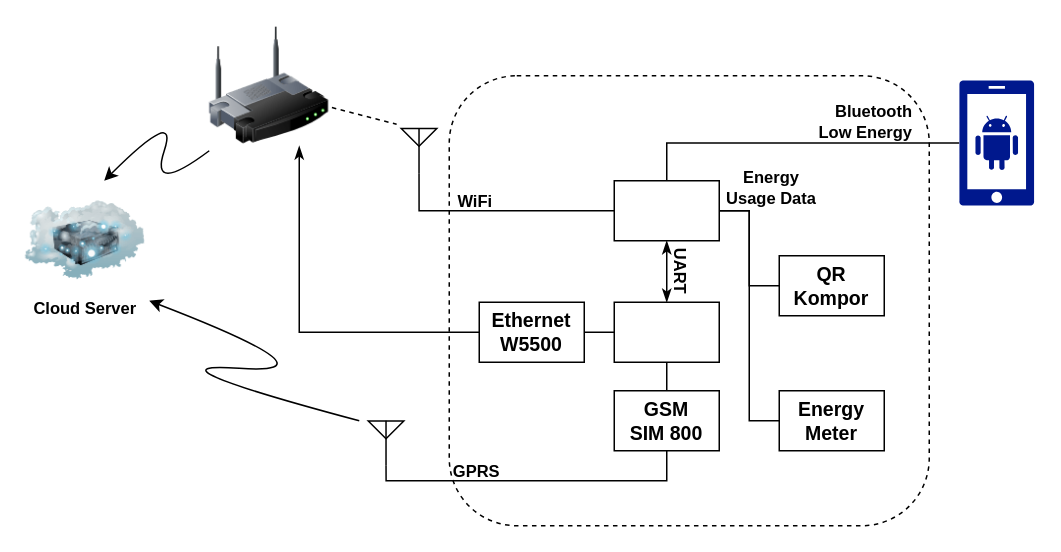
Some shapes in this 1061 by 552 pixel diagram are drawn without their labels. The centre of each missing label's shape, as x and y in pixels:
"ATMega" goes at (x=666, y=331).
"ESP32" goes at (x=666, y=210).
